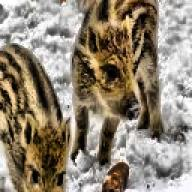boar: (69, 0, 163, 165), (0, 42, 70, 192)
